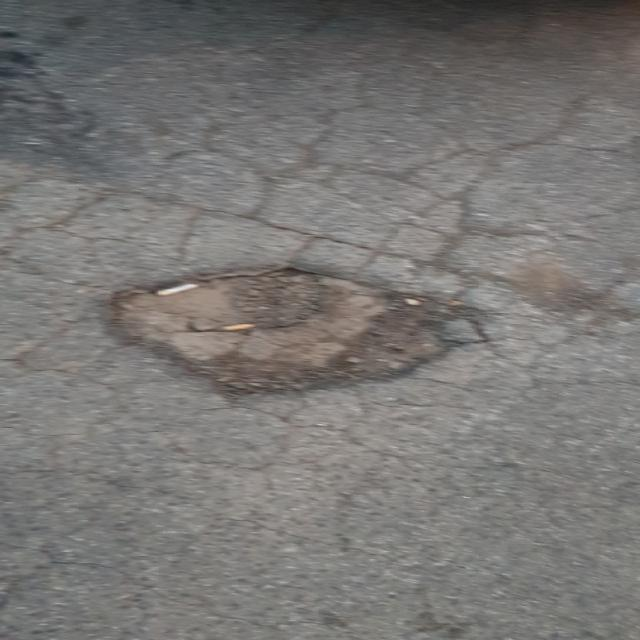Pothole: (101, 259, 501, 404)
